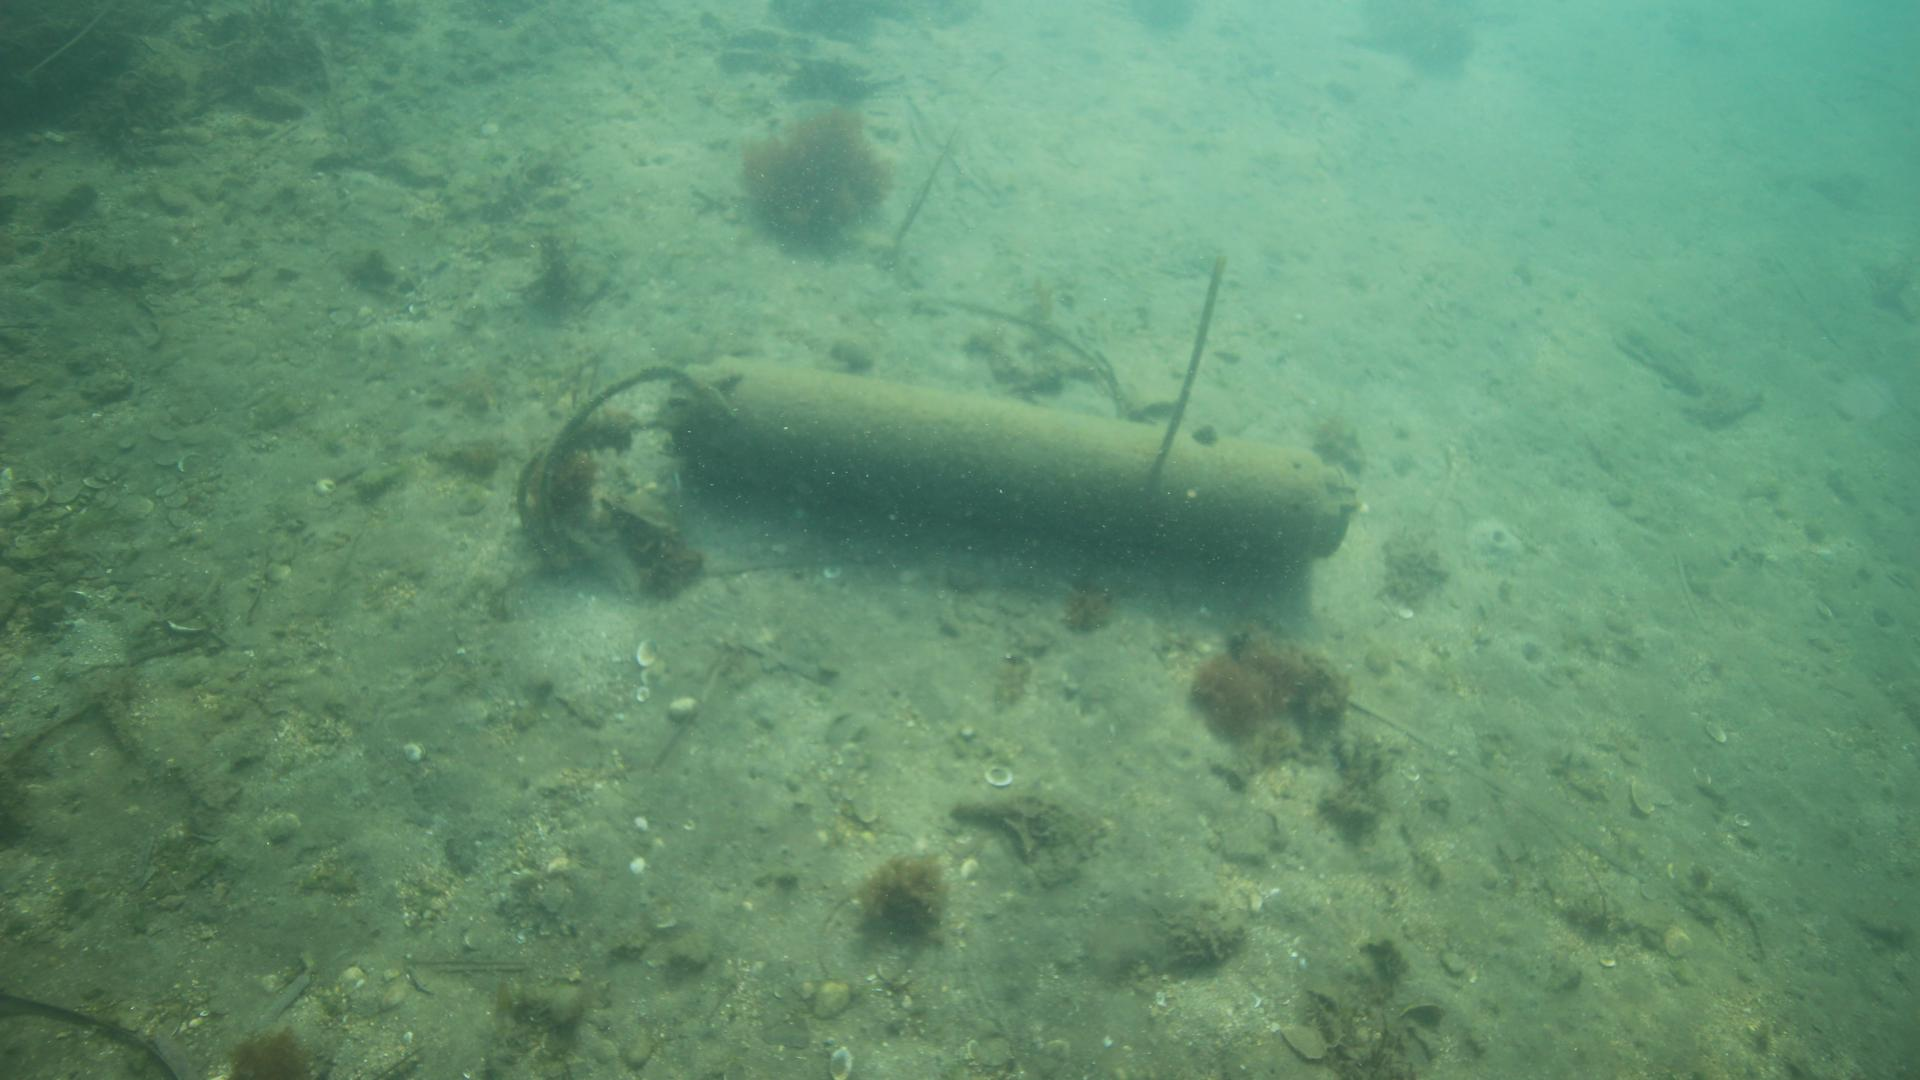bundle of ropes: (513, 360, 742, 574)
eel fish trap: (674, 361, 1358, 562)
